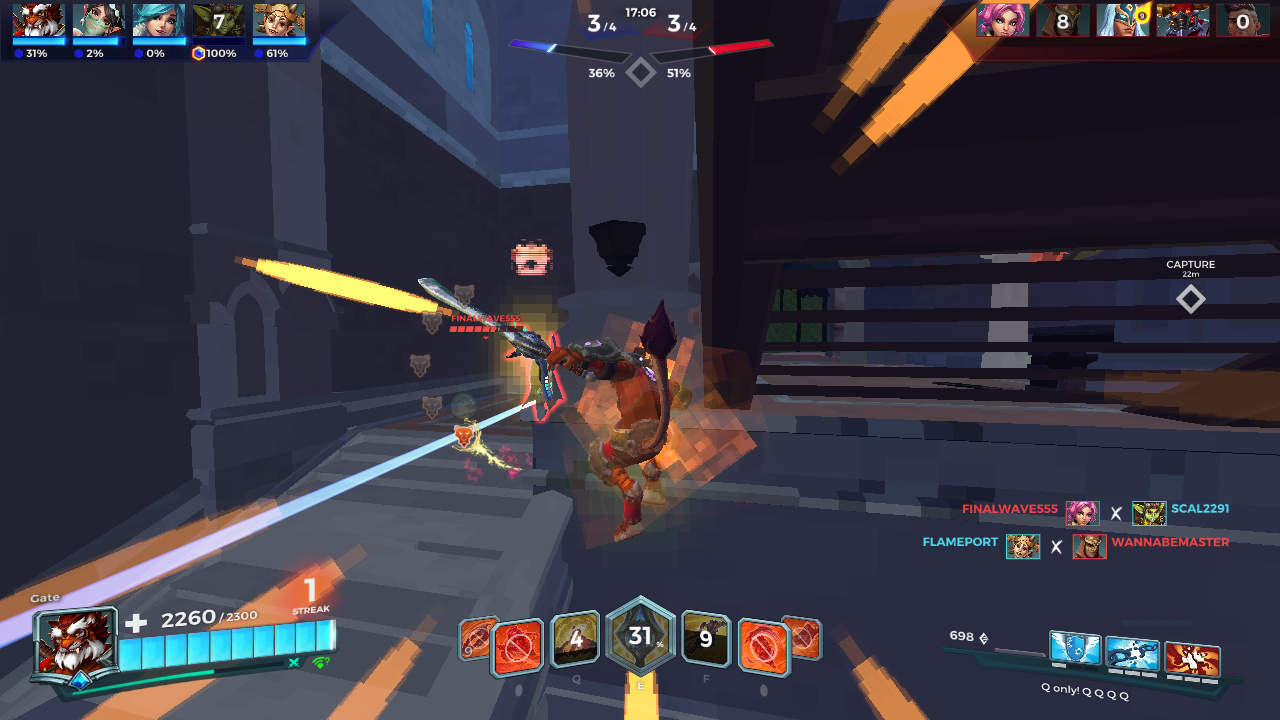model: (496, 327, 578, 418)
